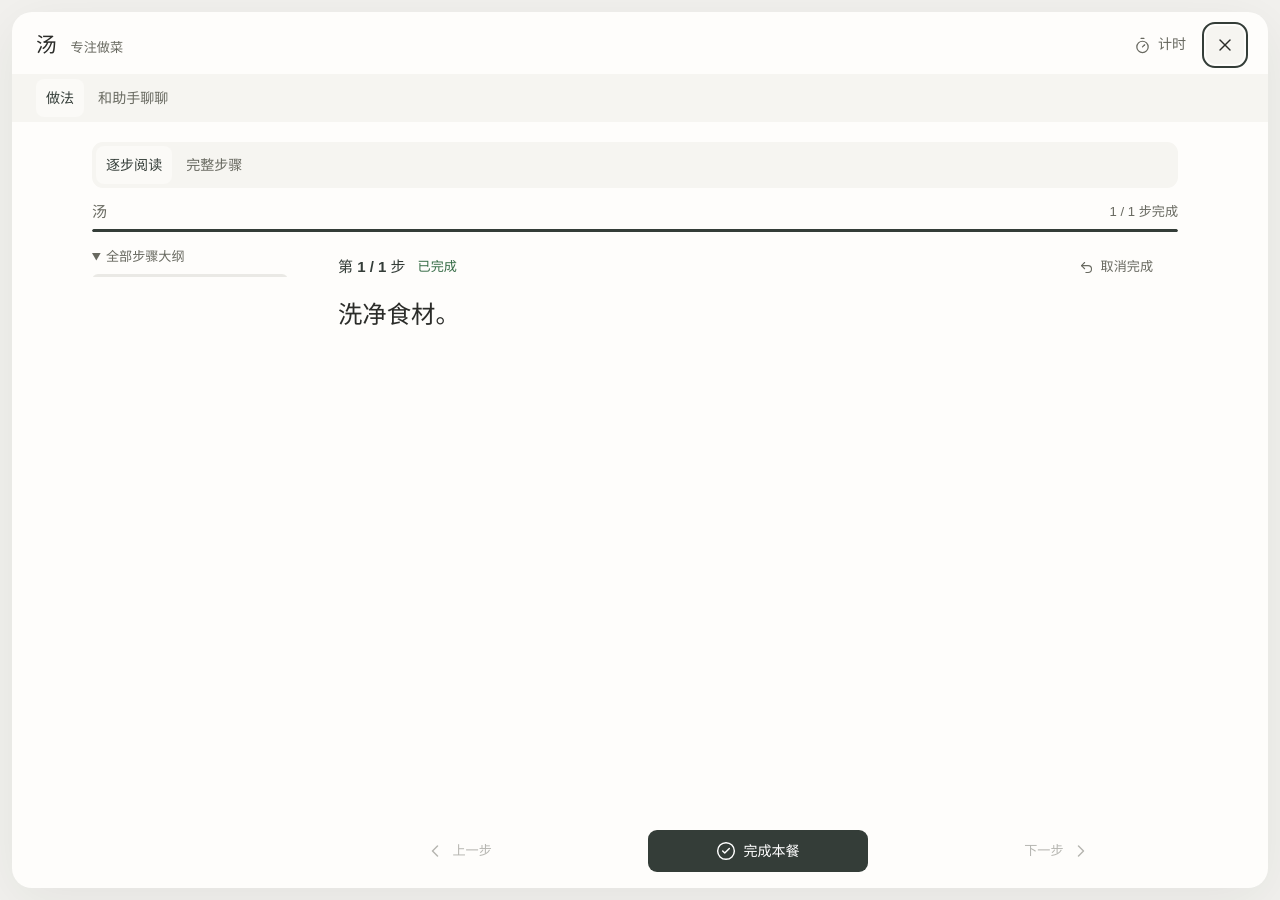
Test: React workspace behavior › cancels meal confirmation without saving and keeps completion available in the full step overview
Click the button "完成本餐" at (758, 851), box [648, 830, 868, 872]
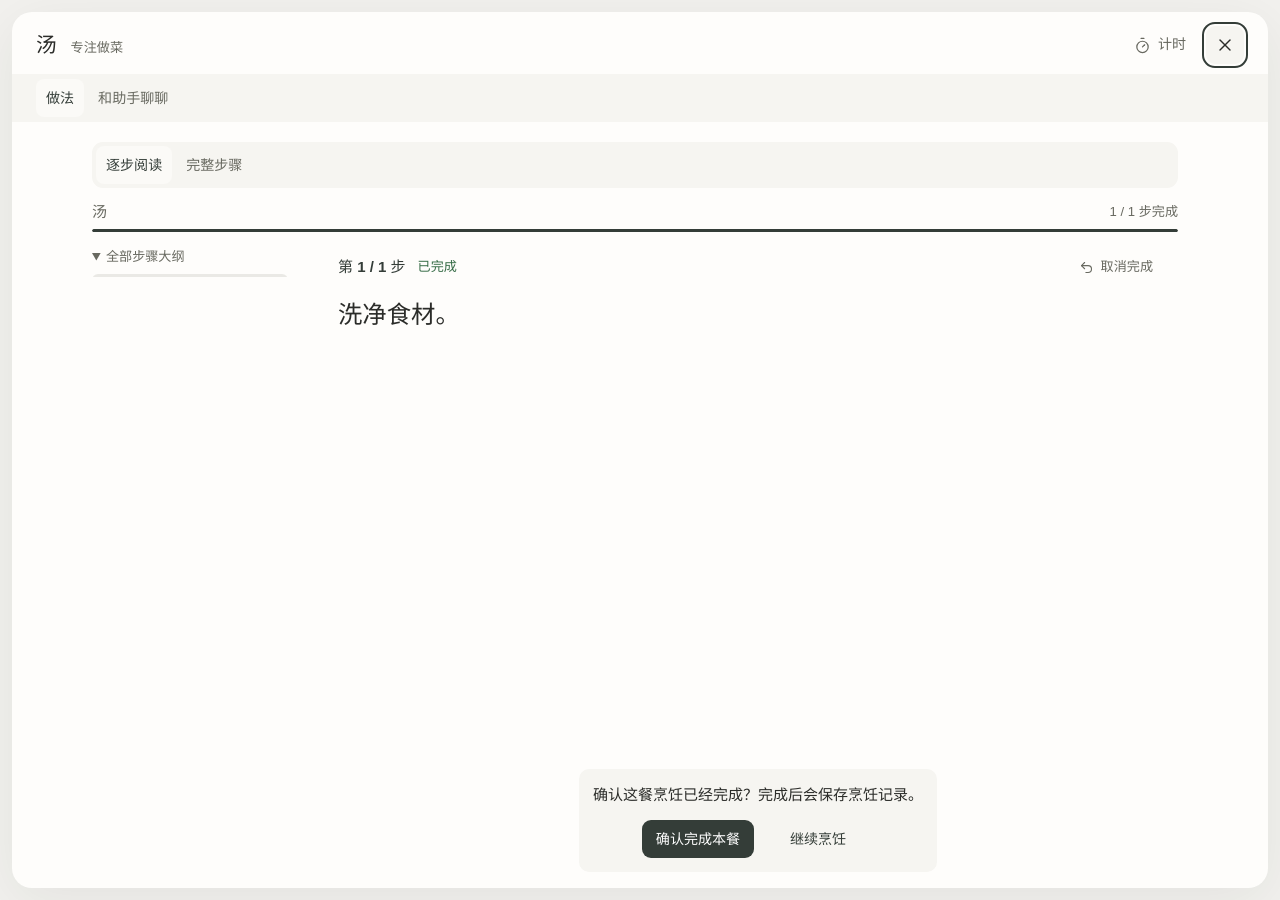
Now the element "确认完成本餐" is shown, box [579, 769, 937, 872]
Click the button "继续烹饪" at (818, 839), box [762, 820, 874, 858]
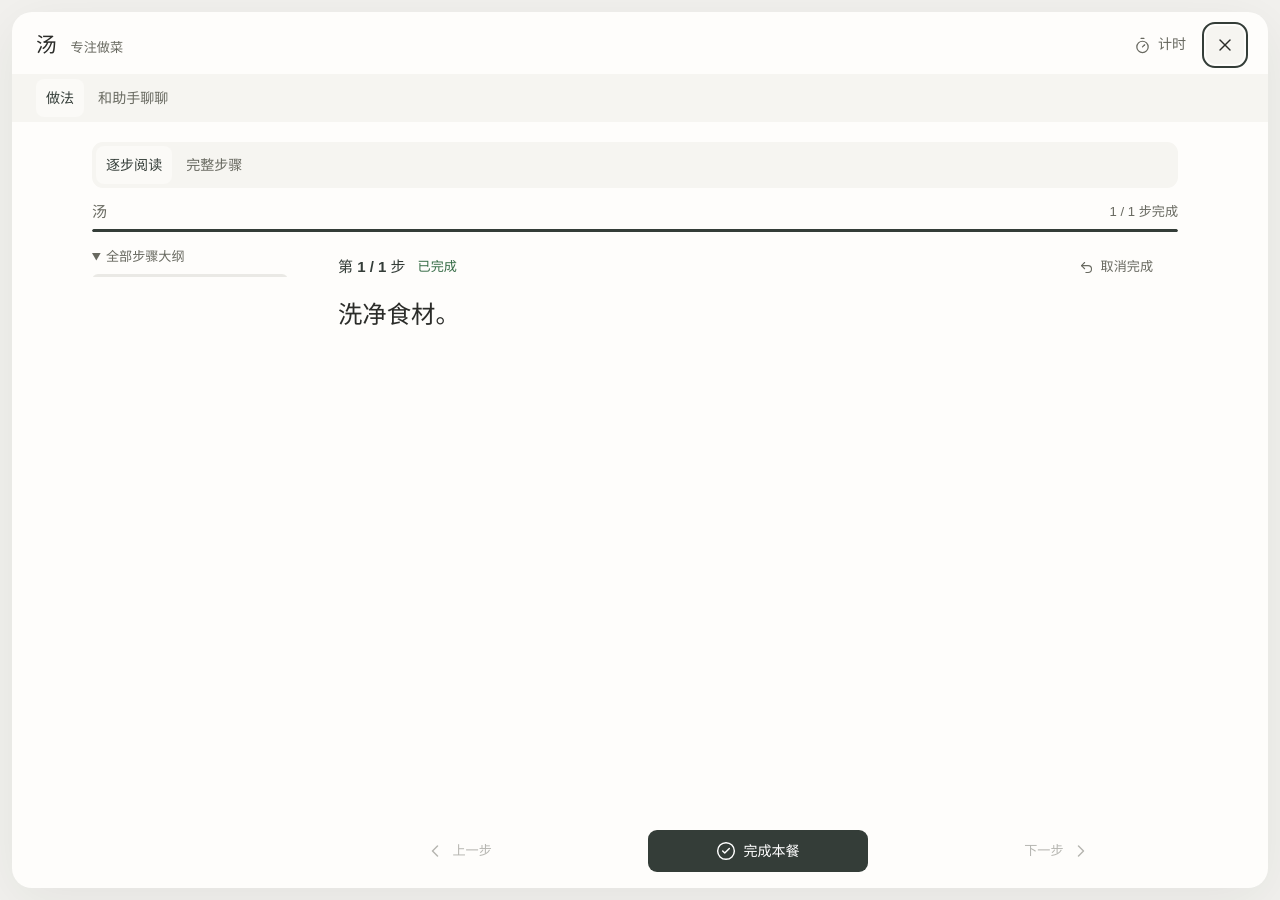
Click the tab "完整步骤" at (214, 165), box [176, 146, 252, 184]
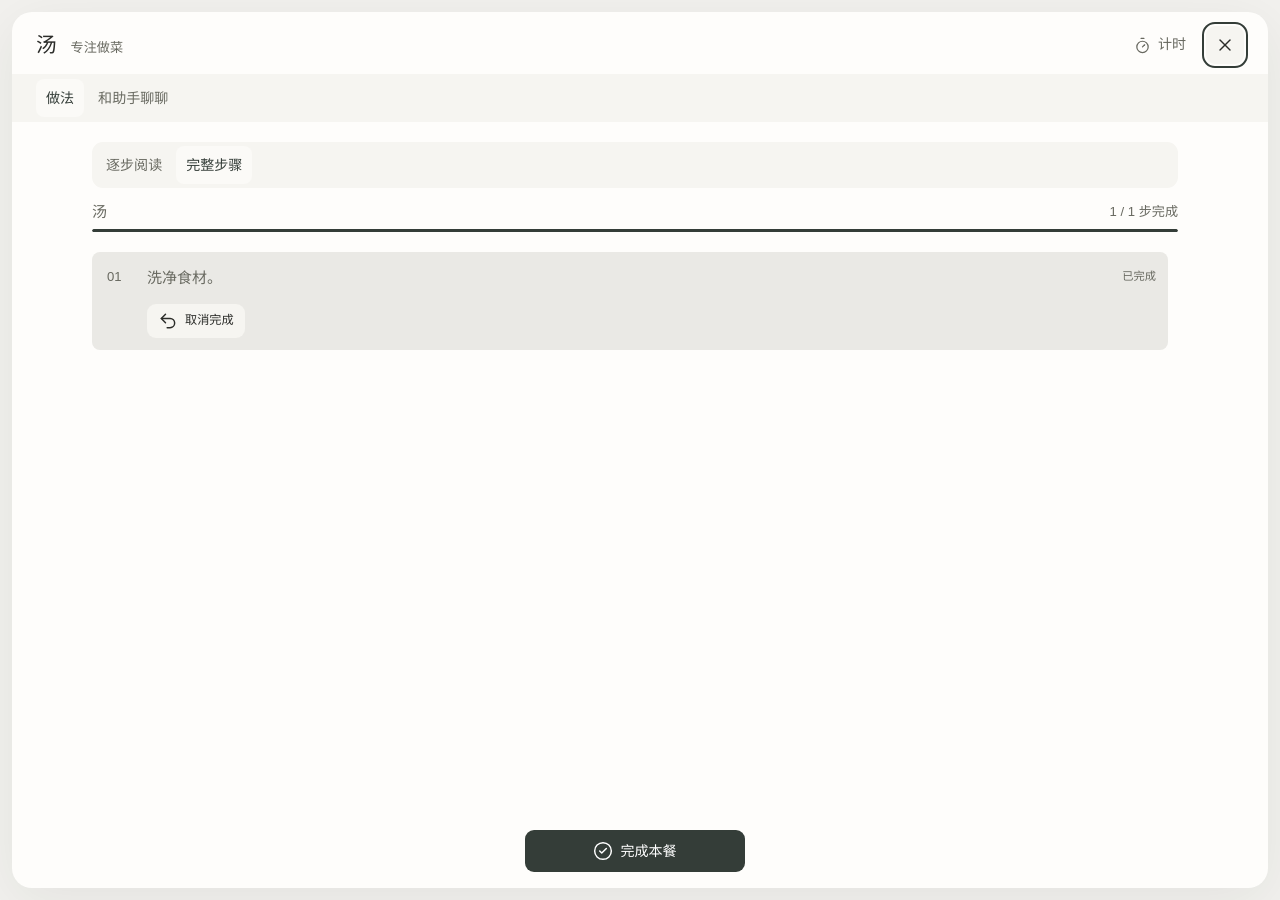
Expected: the button "取消完成" is enabled, [147, 304, 245, 338]
Click the button "完成本餐" at (635, 851), box [525, 830, 745, 872]
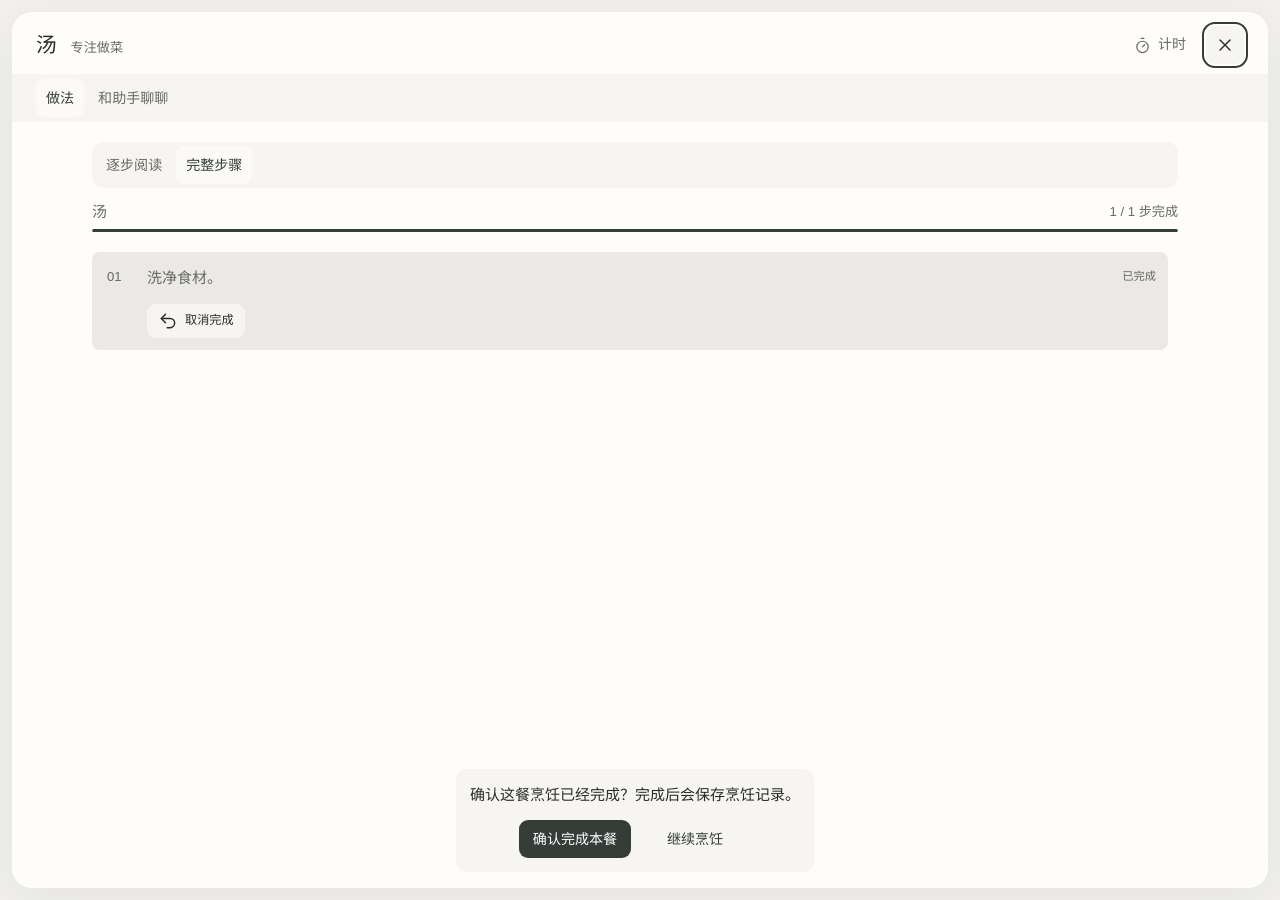
Now the button "确认完成本餐" is shown, box [519, 820, 631, 858]
